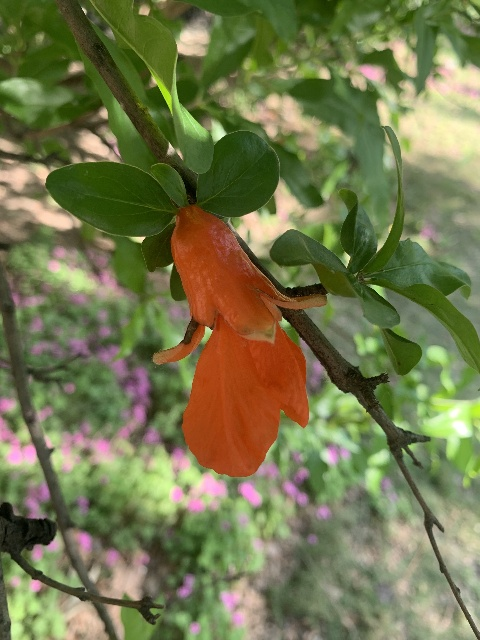flower: (153, 203, 328, 479)
